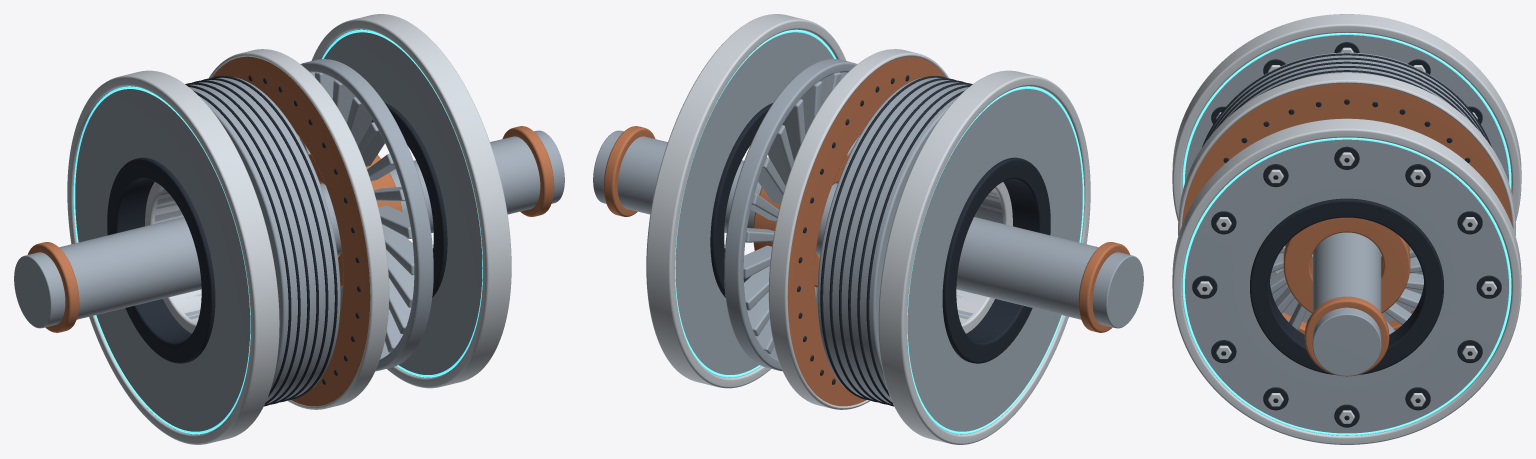
The model's file is precision.glb.
The picture shows the model from 3 angles, left to right: view 1: azimuth 30°, elevation 25°; view 2: azimuth 150°, elevation 25°; view 3: azimuth 270°, elevation 25°; orthographic projection. The views are drawn at different scales.
Visible parts, largest first — view 1: Flange body, Precision spindle, Stepped bearing housing, Flange body.001, Polished outer shoulder, Polished outer shoulder.001, Copper retaining ring, Graphite inner seal, Rotor edge highlight, Turbine outer rim, Graphite inner seal.001, Bearing inner race (+18 smaller); view 2: Flange body, Precision spindle, Stepped bearing housing, Flange body.001, Polished outer shoulder, Polished outer shoulder.001, Copper retaining ring, Graphite inner seal, Rotor edge highlight, Turbine outer rim, Graphite inner seal.001, Bearing inner race (+18 smaller); view 3: Flange body.001, Polished outer shoulder.001, Copper retaining ring, Graphite inner seal.001, Polished outer shoulder, Precision spindle, Flange body, Turbine hub, Rotor edge highlight, Stepped bearing housing, Signal circumference.001, Spindle collar.001 (+6 smaller).
Part boxes in pixels (x1,y1,x2,y2): Flange body: (75, 86, 250, 434); Precision spindle: (14, 130, 564, 328); Stepped bearing housing: (154, 77, 340, 403); Flange body.001: (321, 29, 482, 377); Polished outer shoulder: (67, 70, 279, 444); Polished outer shoulder.001: (311, 14, 511, 388); Copper retaining ring: (212, 56, 370, 406); Graphite inner seal: (107, 157, 215, 363); Rotor edge highlight: (209, 49, 389, 409); Turbine outer rim: (300, 59, 433, 371); Graphite inner seal.001: (371, 103, 447, 297); Bearing inner race: (145, 182, 201, 333); Flange body: (907, 86, 1082, 434); Precision spindle: (593, 130, 1143, 328); Stepped bearing housing: (817, 77, 1003, 403); Flange body.001: (675, 29, 836, 377); Polished outer shoulder: (878, 70, 1090, 444); Polished outer shoulder.001: (646, 14, 846, 388); Copper retaining ring: (787, 56, 945, 406); Graphite inner seal: (942, 157, 1050, 363); Rotor edge highlight: (768, 49, 948, 409); Turbine outer rim: (724, 59, 857, 371); Graphite inner seal.001: (710, 103, 772, 297); Bearing inner race: (956, 182, 1012, 333); Flange body.001: (1182, 139, 1511, 435); Polished outer shoulder.001: (1172, 118, 1521, 444); Copper retaining ring: (1182, 83, 1511, 334); Graphite inner seal.001: (1250, 198, 1443, 374); Polished outer shoulder: (1172, 14, 1521, 221); Precision spindle: (1312, 232, 1381, 376); Flange body: (1182, 35, 1511, 188); Turbine hub: (1283, 217, 1410, 312); Rotor edge highlight: (1178, 73, 1515, 235); Stepped bearing housing: (1206, 52, 1487, 322); Signal circumference.001: (1182, 137, 1511, 435); Spindle collar.001: (1304, 296, 1389, 376).
Size of what is drawn, in the model's own units: 3.9 by 2.48 by 2.48.
